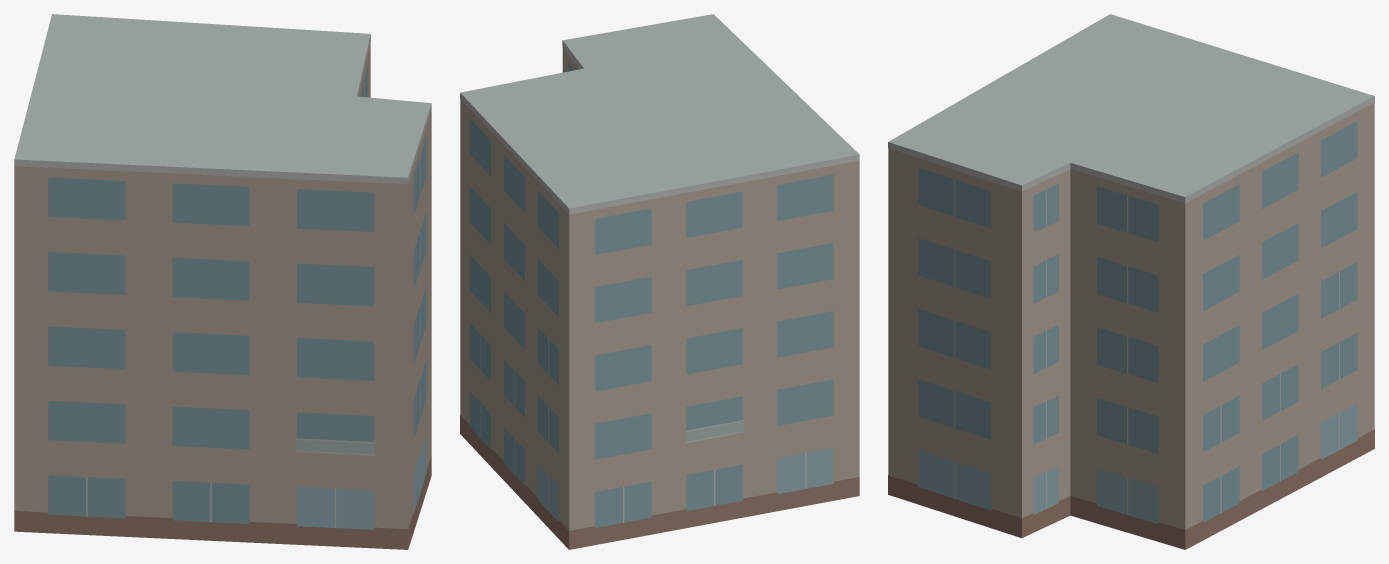
The model's file is survey-upis-32947009.glb.
The picture shows the model from 3 angles, left to right: view 1: azimuth 30°, elevation 25°; view 2: azimuth 150°, elevation 25°; view 3: azimuth 270°, elevation 25°; orthographic projection. The views are drawn at different scales.
Parts seen in each view (by area): view 1: survey-upis-32947009.tmp; view 2: survey-upis-32947009.tmp; view 3: survey-upis-32947009.tmp.
Boxes of the visible parts, left/top/right/bottom form: survey-upis-32947009.tmp: left=14, top=14, right=431, bottom=549; survey-upis-32947009.tmp: left=460, top=14, right=859, bottom=549; survey-upis-32947009.tmp: left=888, top=14, right=1374, bottom=549.
Bounding box in the file's own units: 15.32 × 13.75 × 17.2.
